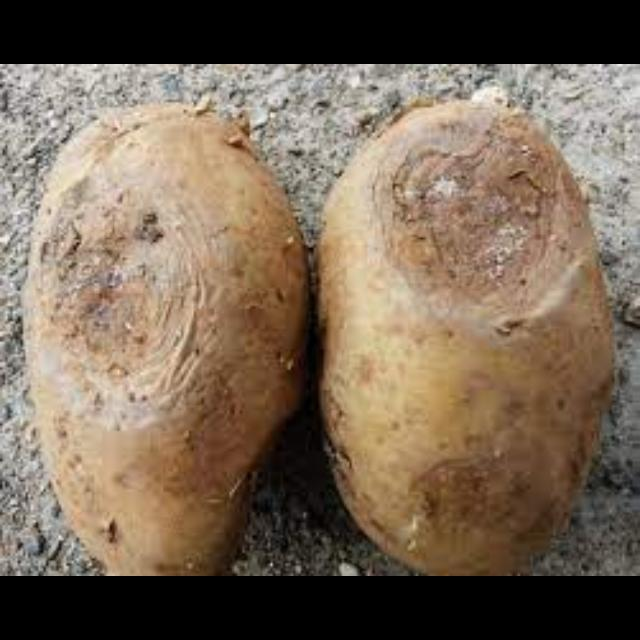Diseased-fungal potato: (16, 84, 314, 576), (314, 91, 608, 576)
